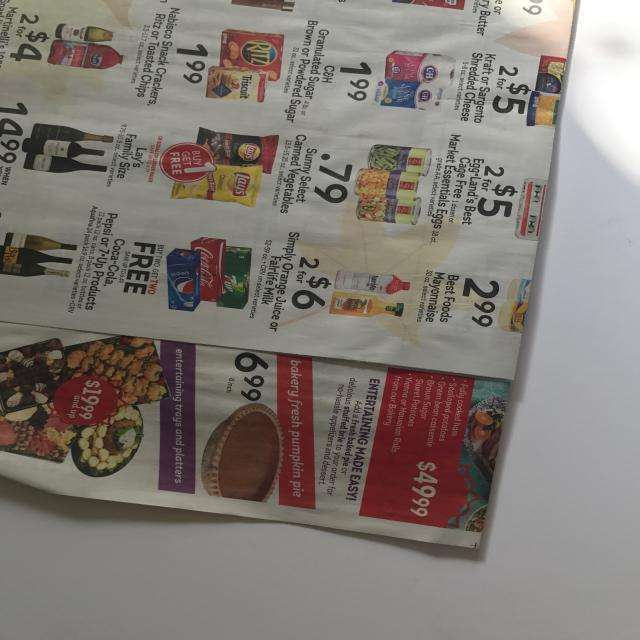paper: (0, 1, 579, 558)
